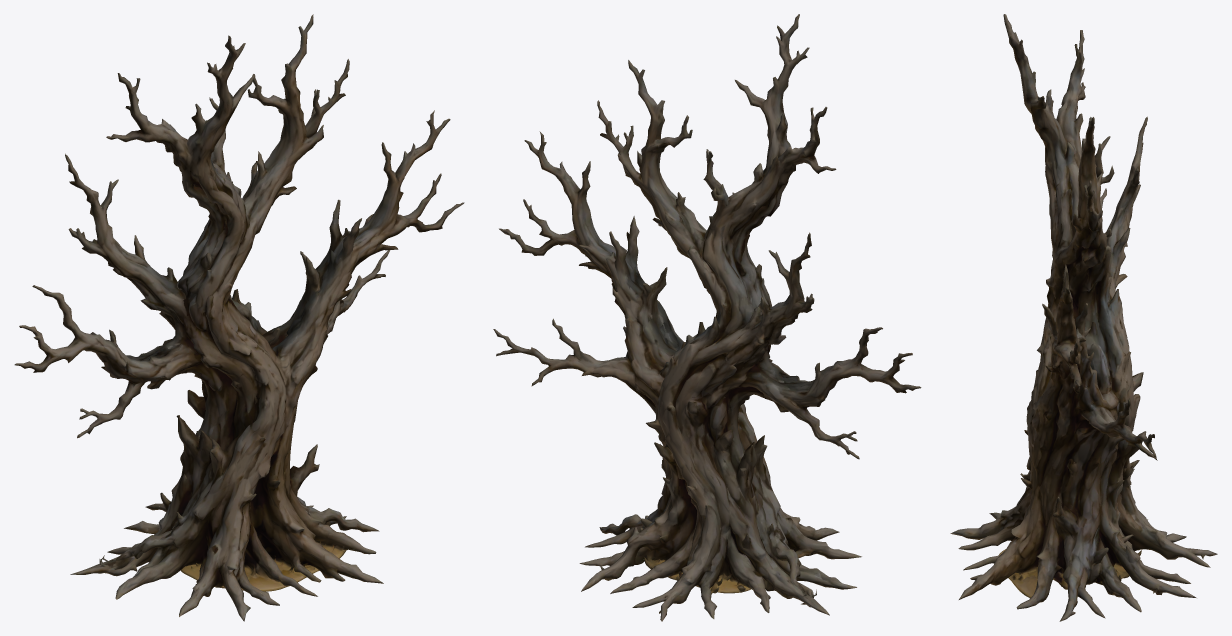
The model's file is nat_tree_dead_v1.glb.
The picture shows the model from 3 angles, left to right: view 1: azimuth 30°, elevation 25°; view 2: azimuth 150°, elevation 25°; view 3: azimuth 270°, elevation 25°; orthographic projection. The views are drawn at different scales.
Visible parts, largest first — view 1: tripo_node_b34e11d1-fa89-4f6c-af5d-ba4100efd041; view 2: tripo_node_b34e11d1-fa89-4f6c-af5d-ba4100efd041; view 3: tripo_node_b34e11d1-fa89-4f6c-af5d-ba4100efd041.
Boxes of the visible parts, x1=… form: tripo_node_b34e11d1-fa89-4f6c-af5d-ba4100efd041: x1=14, y1=14, x2=464, y2=621; tripo_node_b34e11d1-fa89-4f6c-af5d-ba4100efd041: x1=493, y1=14, x2=921, y2=621; tripo_node_b34e11d1-fa89-4f6c-af5d-ba4100efd041: x1=950, y1=14, x2=1217, y2=621.
Size of the model in its own units: 0.8167 by 0.9808 by 0.452.
1 material, 1 textured.
